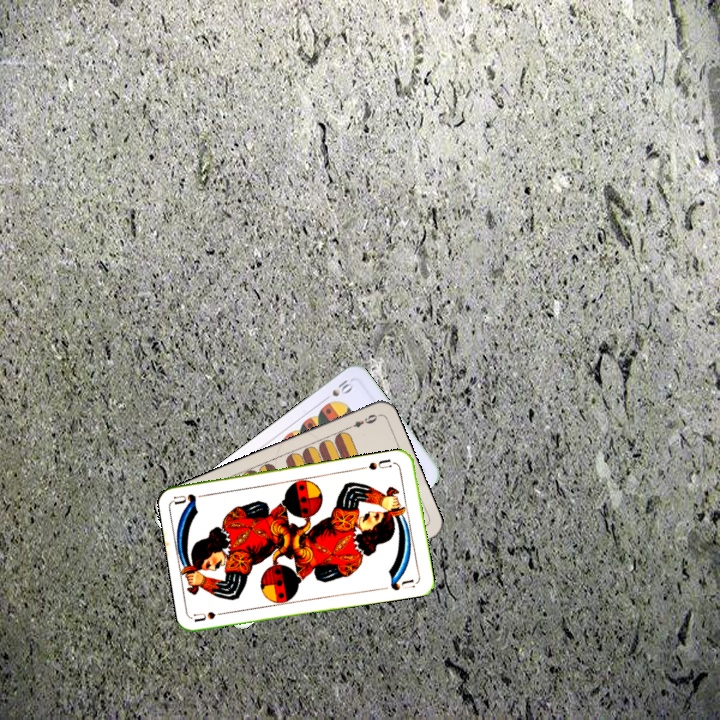E9: (342, 410, 381, 432)
S10: (319, 373, 356, 404)
SU: (191, 607, 232, 624), (358, 455, 394, 473)
